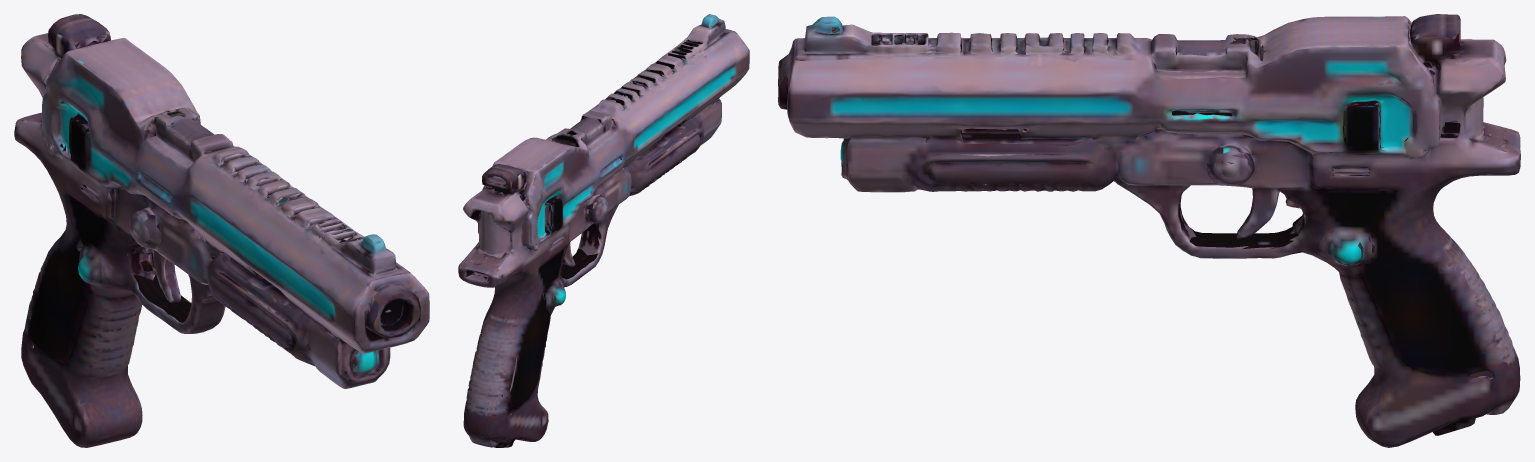
Rendered from blaster.glb.
3 renders of one model, left to right at view 1: azimuth 30°, elevation 25°; view 2: azimuth 150°, elevation 25°; view 3: azimuth 270°, elevation 25°, orthographic. The views are drawn at different scales.
Size of the model in its own units: 0.1488 by 0.6241 by 1.
Materials: 1 (1 with a texture image).
